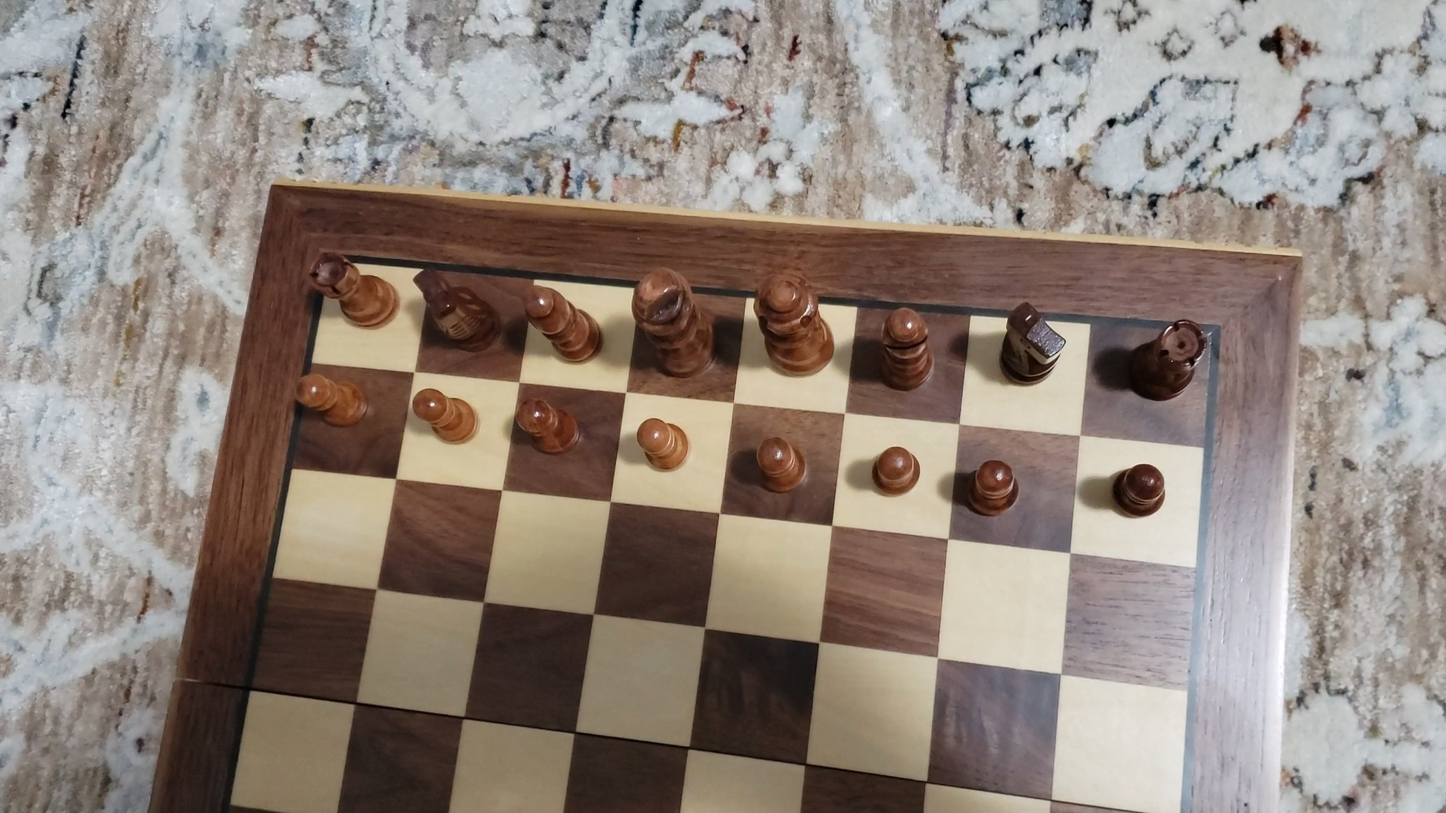black-bishop: (526, 283, 601, 364), (878, 303, 933, 393)
black-king: (629, 260, 718, 381)
black-knight: (411, 264, 504, 355), (996, 296, 1068, 387)
black-pawn: (293, 371, 370, 429), (512, 395, 582, 455), (411, 386, 477, 445), (963, 457, 1022, 519), (753, 432, 809, 496), (1110, 461, 1169, 521), (636, 415, 691, 473), (870, 443, 922, 499)
black-queen: (751, 263, 839, 378)
black-rook: (1125, 317, 1209, 403), (309, 249, 397, 328)
